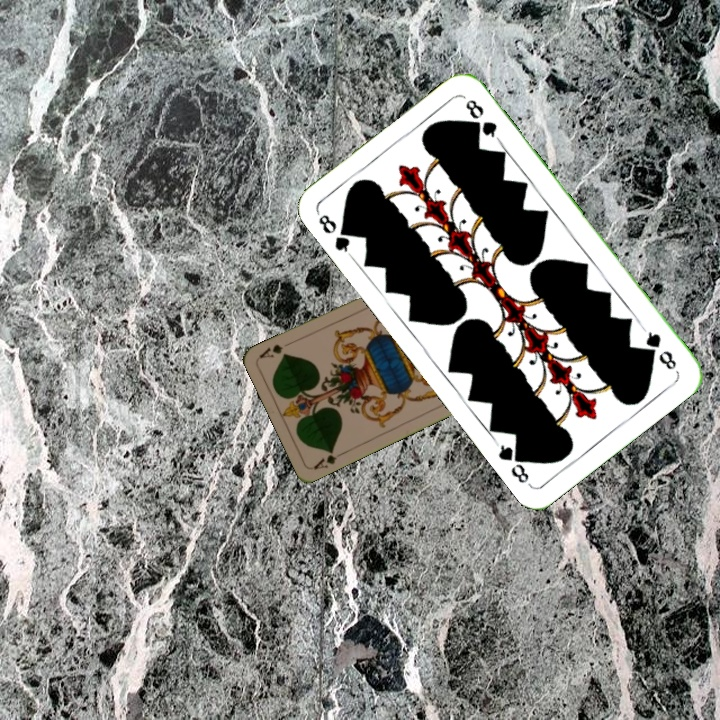G8: (313, 209, 357, 260), (639, 324, 679, 373)
GA: (309, 445, 348, 472)
